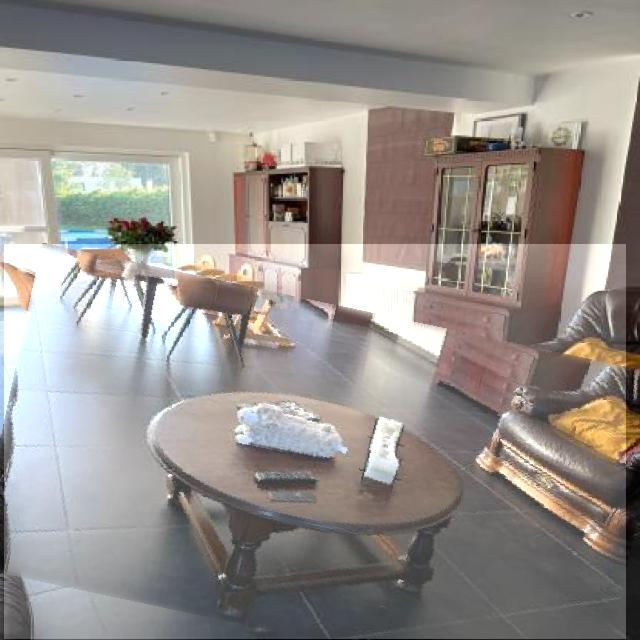floor: (5, 244, 626, 640)
